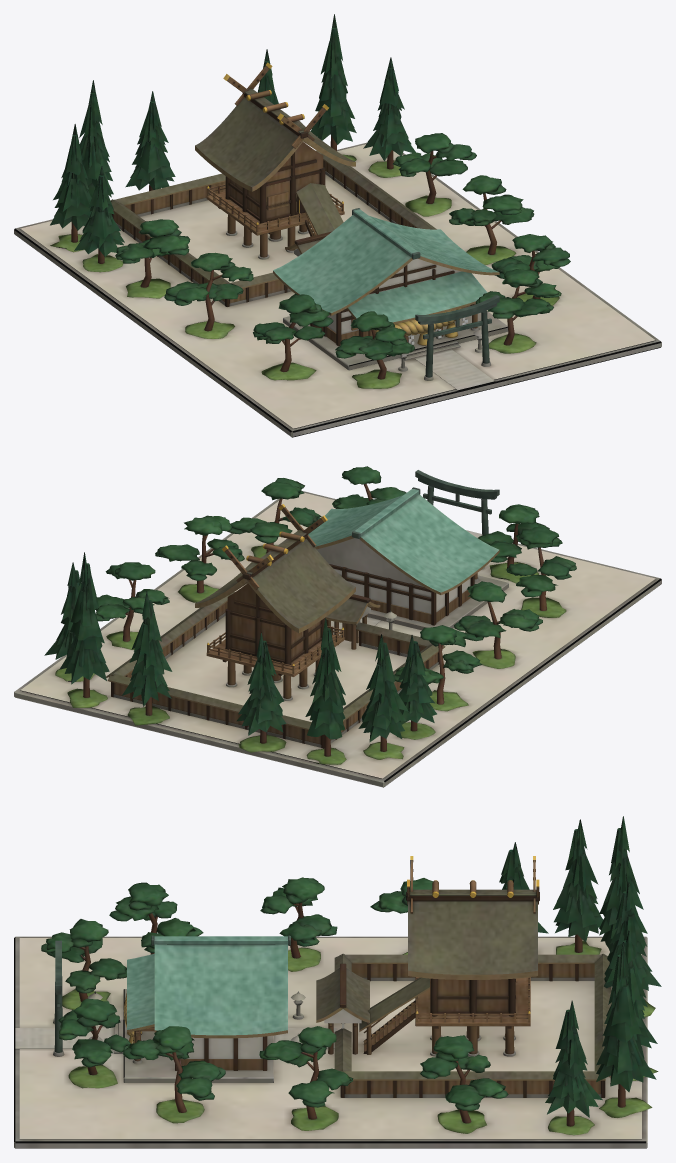
The model's file is izumo-taisha.glb.
The picture shows the model from 3 angles, top to bottom: view 1: azimuth 30°, elevation 25°; view 2: azimuth 150°, elevation 25°; view 3: azimuth 270°, elevation 25°; orthographic projection. The views are drawn at different scales.
Visible parts, largest first — view 1: izumo-taisha; view 2: izumo-taisha; view 3: izumo-taisha.
Boxes of the visible parts, x1,y1,x2,y2 form: izumo-taisha: (14,14,661,437); izumo-taisha: (14,466,661,787); izumo-taisha: (14,816,661,1148).
Size of the model in its own units: 60.71 by 24.24 by 79.75.
1 material, 1 textured.
